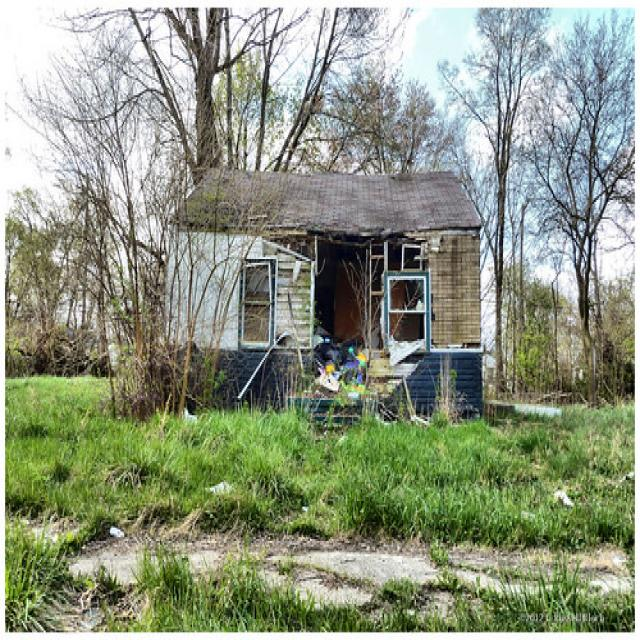Normal_building: (156, 158, 489, 434)
